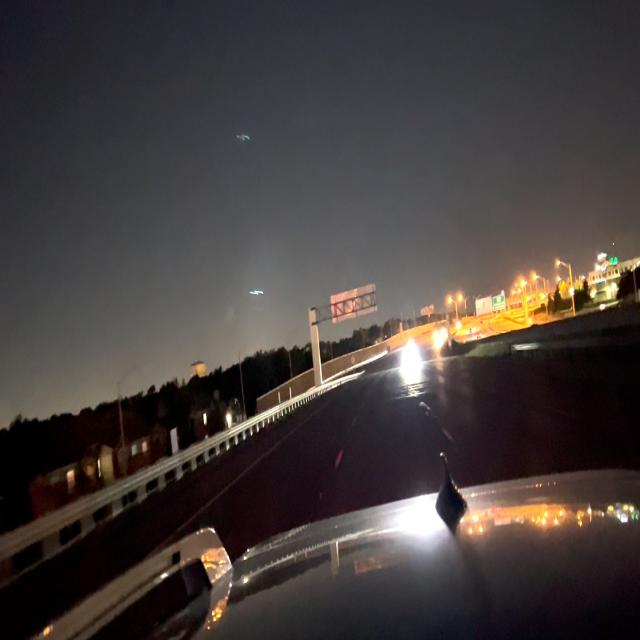back-of-sign: (331, 283, 378, 326)
